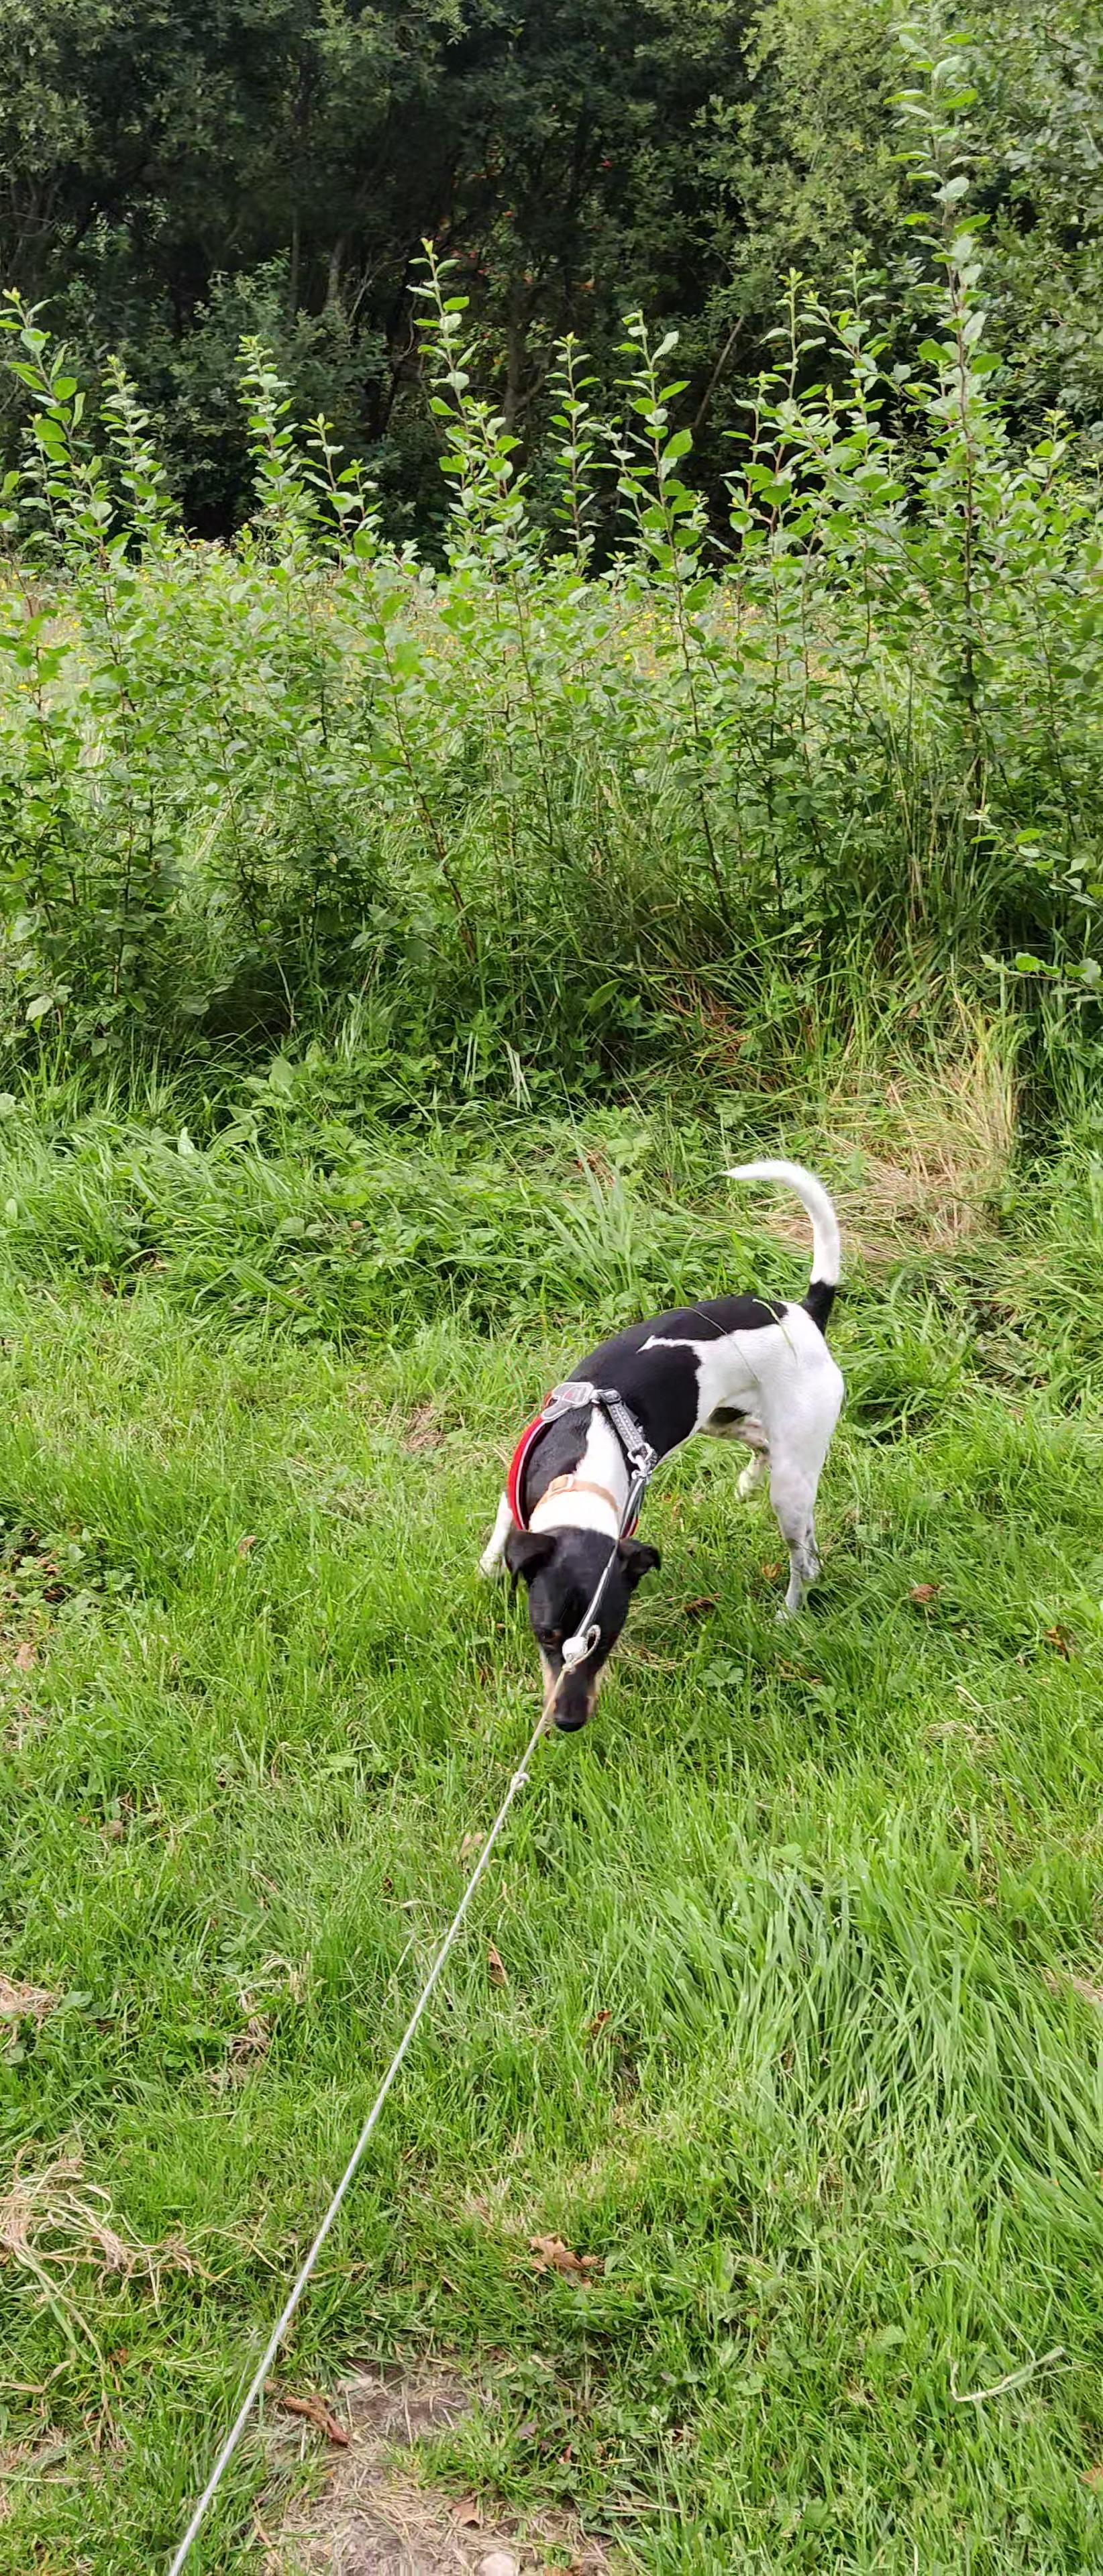Dog: (473, 1157, 855, 1741)
